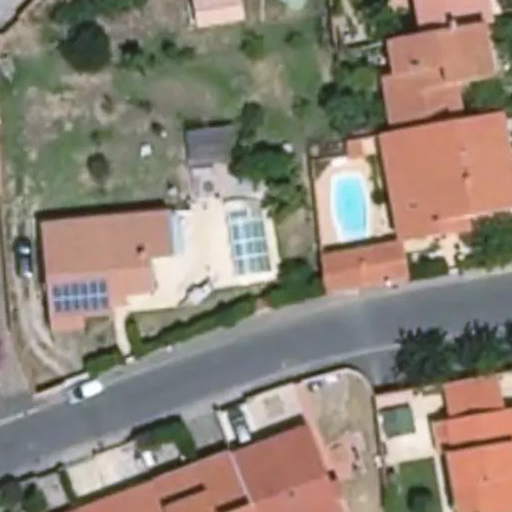pool: (231, 207, 280, 276)
